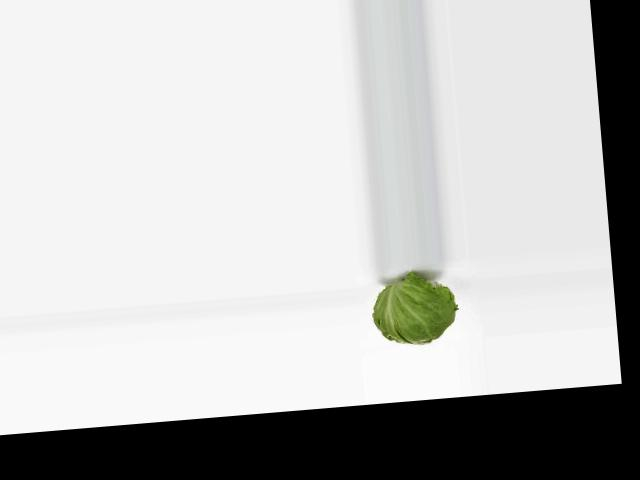lettuce: (365, 278, 462, 349)
